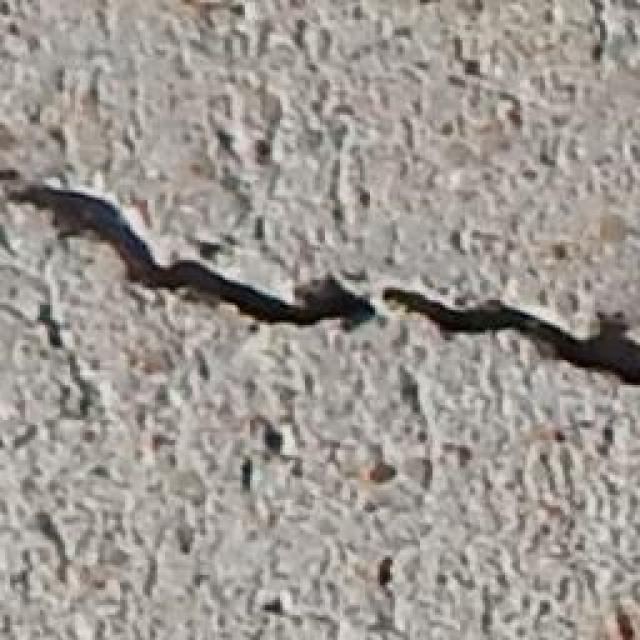concrete-crack: (1, 174, 640, 392)
